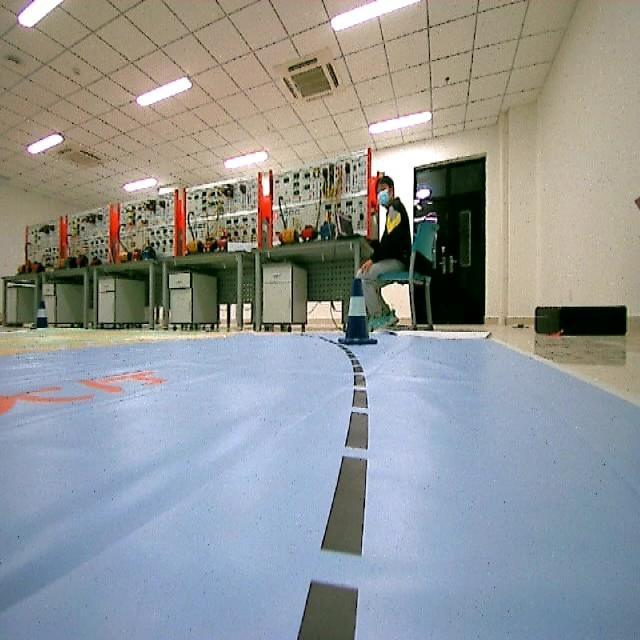obstacle: (346, 274, 382, 347)
